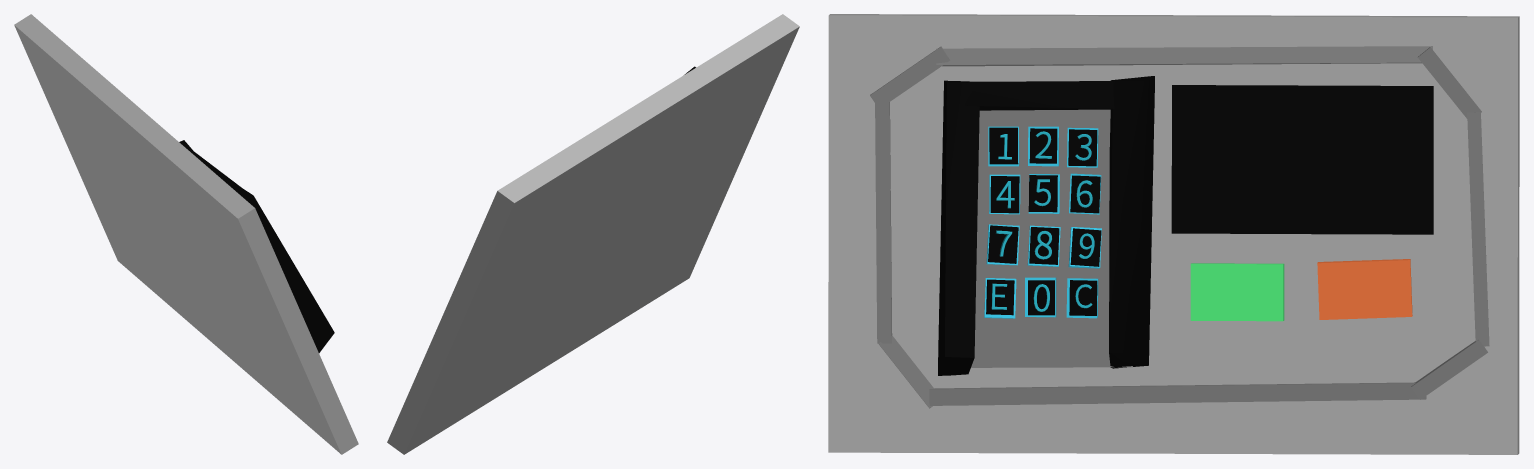
File: Combination key pad.fbx
The picture shows the model from 3 angles, left to right: view 1: azimuth 30°, elevation 25°; view 2: azimuth 150°, elevation 25°; view 3: azimuth 270°, elevation 25°; orthographic projection. The views are drawn at different scales.
Visible parts, largest first — view 1: 34c3fd19-a959-4a17-8e73-609b3a6273ae; view 2: 34c3fd19-a959-4a17-8e73-609b3a6273ae; view 3: 34c3fd19-a959-4a17-8e73-609b3a6273ae.
Boxes of the visible parts, box(x1,y1,x2,y2) form: 34c3fd19-a959-4a17-8e73-609b3a6273ae: box(14, 14, 358, 454); 34c3fd19-a959-4a17-8e73-609b3a6273ae: box(387, 14, 799, 454); 34c3fd19-a959-4a17-8e73-609b3a6273ae: box(828, 14, 1519, 454).
Bounding box in the file's own units: 31053 × 55954 × 90098.
